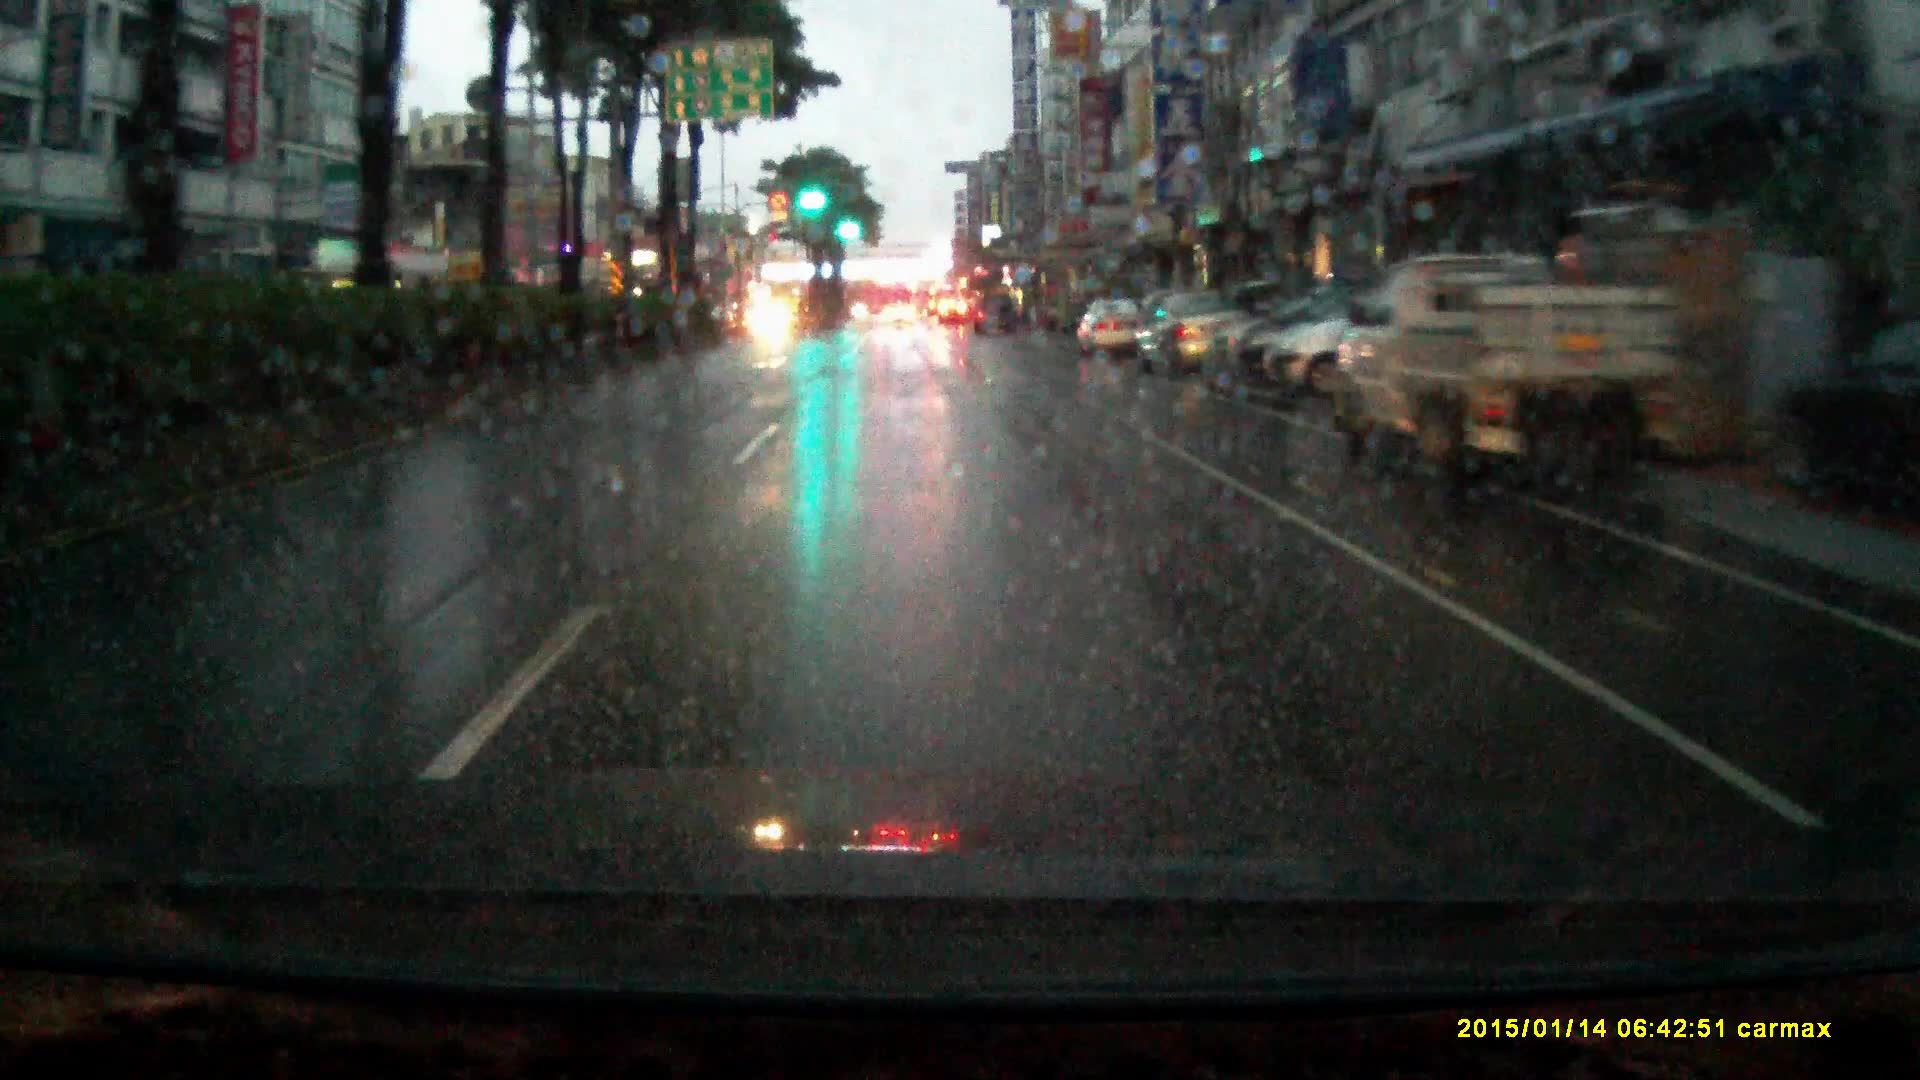vehicle: (1329, 255, 1689, 516), (1741, 310, 1920, 524), (1135, 294, 1266, 384), (1269, 293, 1378, 396), (1080, 303, 1145, 365), (972, 295, 1022, 339), (748, 301, 800, 342), (913, 284, 938, 319), (940, 301, 968, 326), (886, 305, 916, 324)
